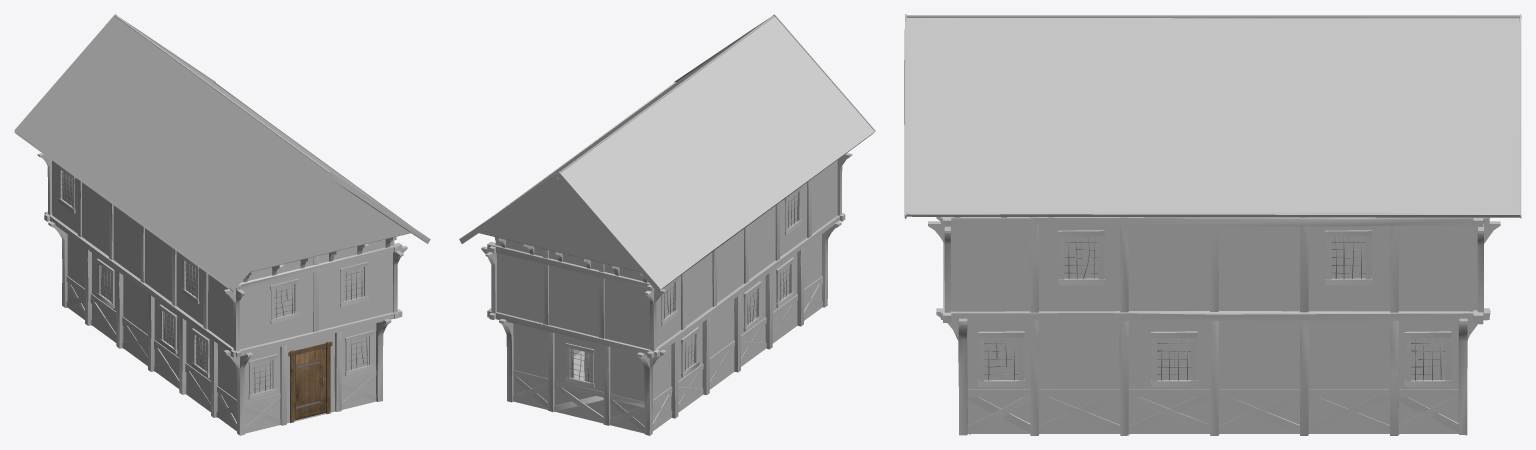
File: SM_House_01_LOD_02.FBX
3 views of the same model, side by side, from view 1: azimuth 30°, elevation 25°; view 2: azimuth 150°, elevation 25°; view 3: azimuth 270°, elevation 25° (orthographic). The views are drawn at different scales.
Parts seen in each view (by area): view 1: SM_House_01_Roof, SM_House_01_Beams, SM_House_01_Wall, SM_House_01_Boards, SM_Door_01, SM_House_01_SteelCage, SM_Door_01_Frame; view 2: SM_House_01_Roof, SM_House_01_Wall, SM_House_01_Beams, SM_House_01_Boards, SM_House_01_SteelCage; view 3: SM_House_01_Roof, SM_House_01_Wall, SM_House_01_Beams, SM_House_01_SteelCage, SM_Window_02_Shutter_Left011, SM_Window_02_Shutter_Left010, SM_Window_02_Shutter_Left007, SM_Window_02_Shutter_Right011, SM_Window_02_Shutter_Right007, SM_Window_02_Shutter_Right009, SM_Window_02_Shutter_Right008, SM_Window_02_Shutter_Right010 (+2 smaller).
Part boxes in pixels (x1,y1,x2,y2): SM_House_01_Roof: (15, 16, 389, 287); SM_House_01_Beams: (14, 14, 430, 435); SM_House_01_Wall: (52, 160, 394, 433); SM_House_01_Boards: (250, 179, 410, 272); SM_Door_01: (295, 347, 325, 419); SM_House_01_SteelCage: (61, 171, 369, 393); SM_Door_01_Frame: (288, 341, 332, 422); SM_House_01_Roof: (498, 16, 873, 288); SM_House_01_Wall: (495, 160, 837, 433); SM_House_01_Beams: (459, 14, 875, 435); SM_House_01_Boards: (479, 179, 639, 379); SM_House_01_SteelCage: (570, 193, 798, 381); SM_House_01_Roof: (906, 18, 1519, 214); SM_House_01_Wall: (950, 225, 1477, 433); SM_House_01_Beams: (904, 14, 1521, 435); SM_House_01_SteelCage: (984, 236, 1445, 380); SM_Window_02_Shutter_Left011: (1064, 236, 1081, 278); SM_Window_02_Shutter_Left010: (1331, 236, 1348, 278); SM_Window_02_Shutter_Left007: (984, 338, 1001, 380); SM_Window_02_Shutter_Right011: (1081, 236, 1098, 278); SM_Window_02_Shutter_Right007: (1001, 338, 1018, 379); SM_Window_02_Shutter_Right009: (1428, 338, 1445, 379); SM_Window_02_Shutter_Right008: (1174, 338, 1191, 379); SM_Window_02_Shutter_Right010: (1348, 236, 1365, 278).
Bounding box in the file's own units: 7.32 × 9.06 × 13.58.
